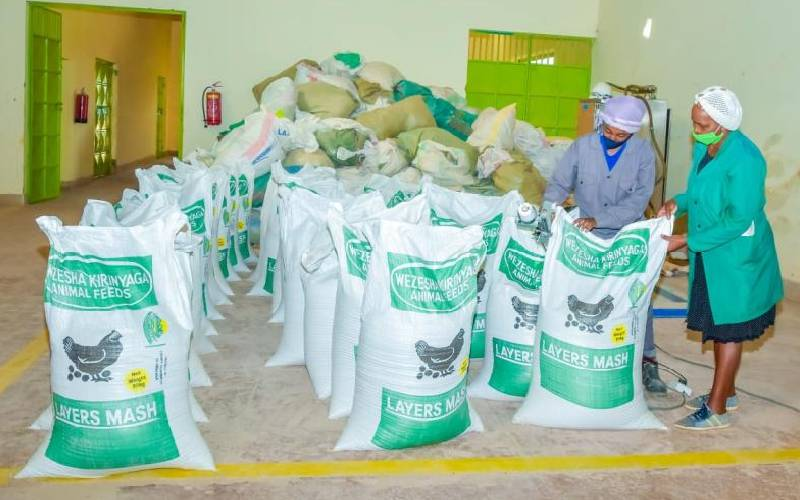feed_bag: (11, 208, 217, 478)
